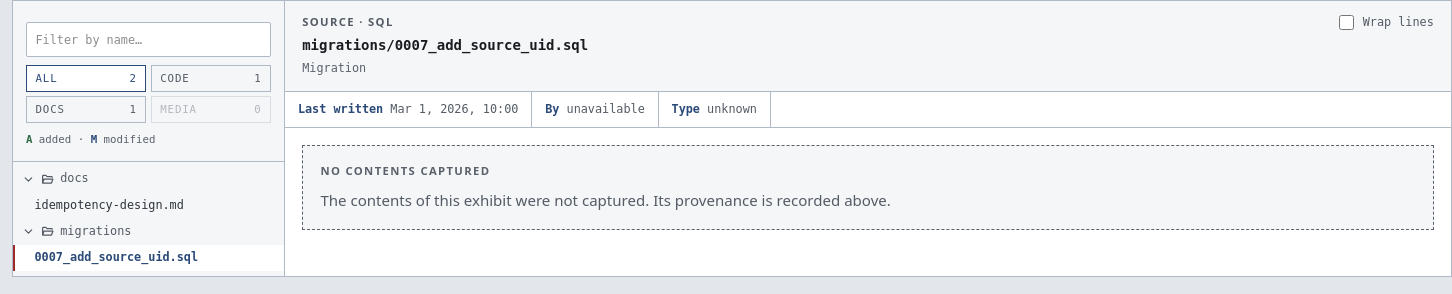
Test: S37: choosing a second exhibit moves the selection and swaps the viewer to that artifact
Click the button "idempotency-design.md". click: point(148, 206)
box: [13, 192, 284, 219]
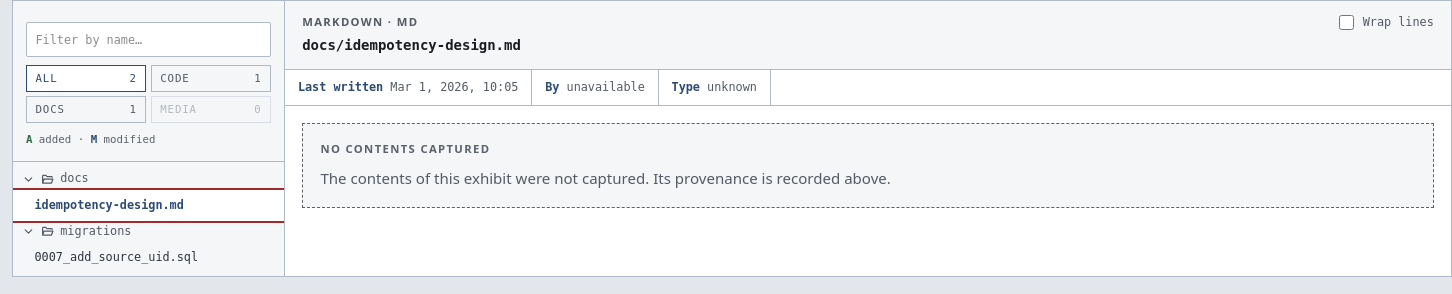
Now the heading "docs/idempotency-design.md" is shown, box [302, 35, 521, 56]
